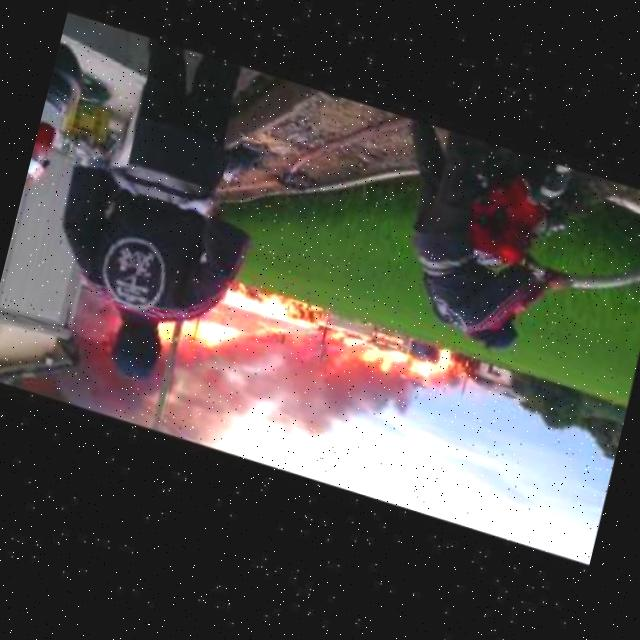fire: (320, 319, 466, 399), (217, 286, 327, 342), (154, 315, 246, 372), (254, 329, 294, 355)
